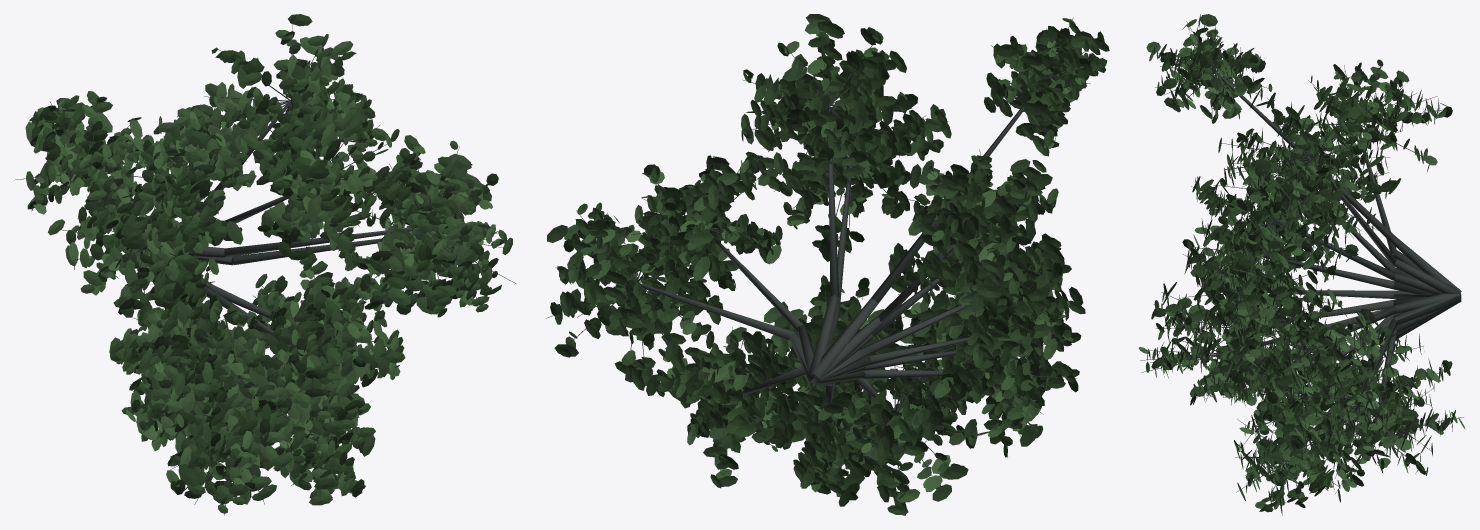
The model's file is tree_m10.obj.
3 views of the same model, side by side, from view 1: azimuth 30°, elevation 25°; view 2: azimuth 150°, elevation 25°; view 3: azimuth 270°, elevation 25° (orthographic). The views are drawn at different scales.
Size of the model in its own units: 1.54 by 1.45 by 1.04.
Materials: 1 (1 with a texture image).
